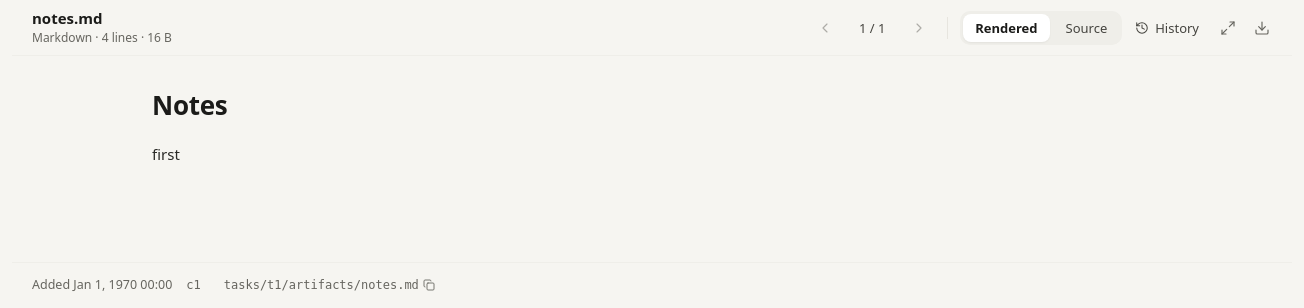
Test: a Markdown file's source, left › with Escape, is saved and shown rendered at once, as it was saved
The image size is (1304, 308).
Click the button "Source".
click(1086, 28)  # box [1054,14,1119,42]
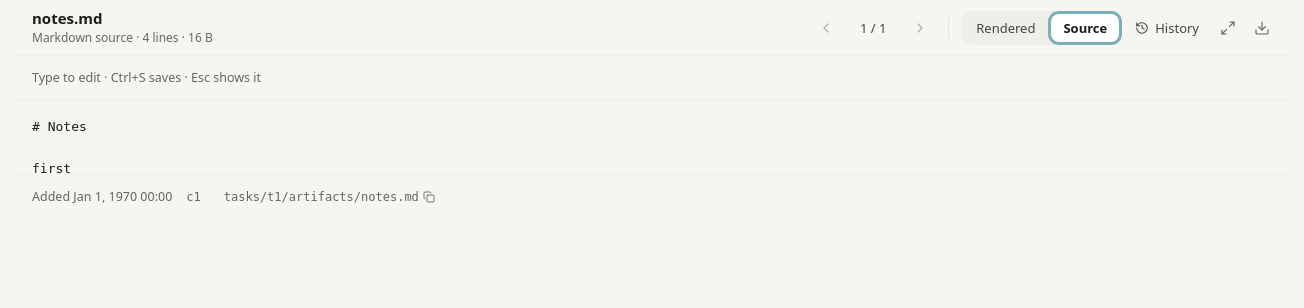
Click the text box named "notes.md".
click(652, 137)  # box [12,100,1292,174]
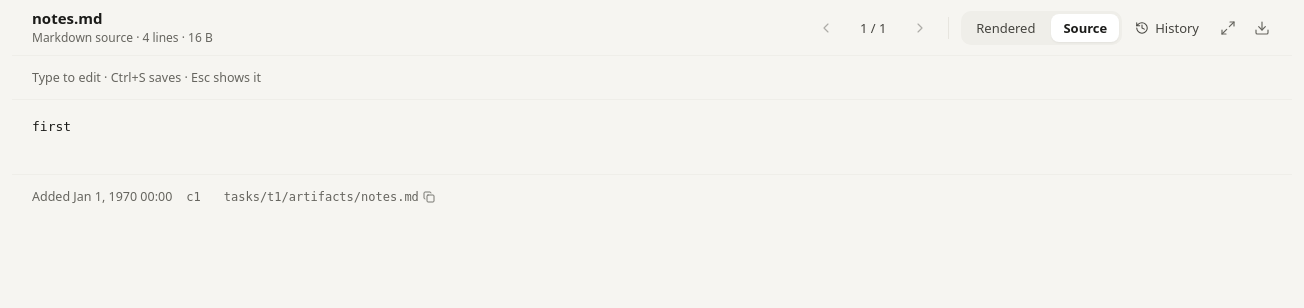
Type keys "{Control>}{End}{/Control}and second{Escape}"
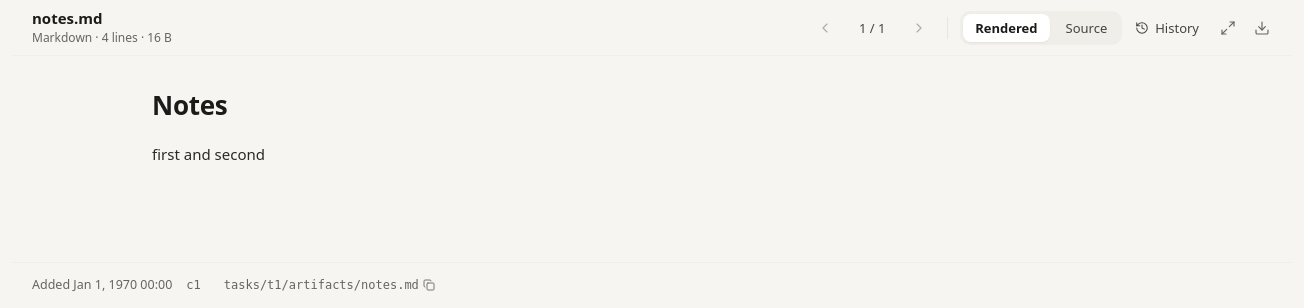
Check: the text "first and second" is shown, box [152,144,265,164]
